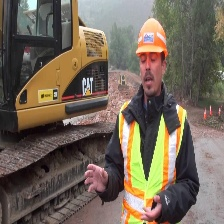helmet: (135, 19, 169, 63)
person: (111, 17, 201, 224)
vest: (118, 99, 187, 224)
